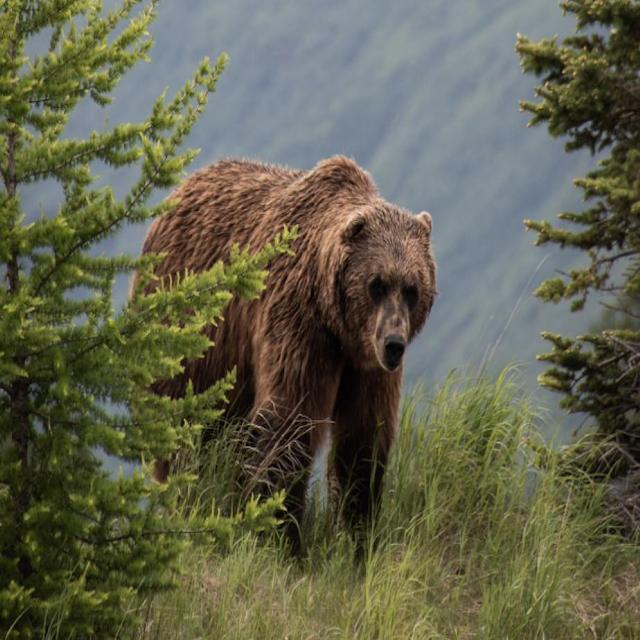Bear: (141, 154, 439, 558)
